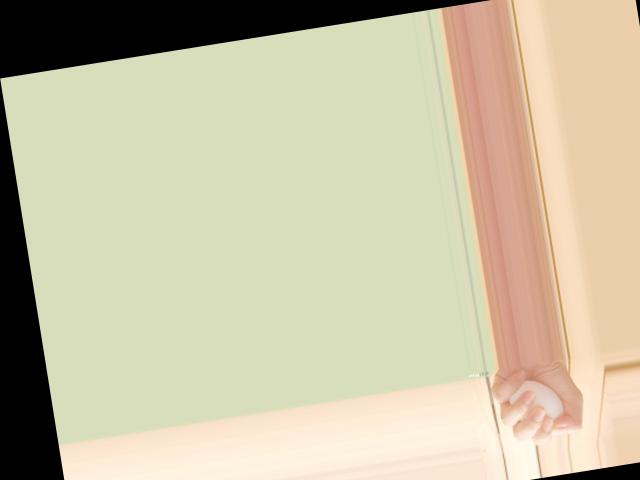egg: (505, 375, 565, 430)
